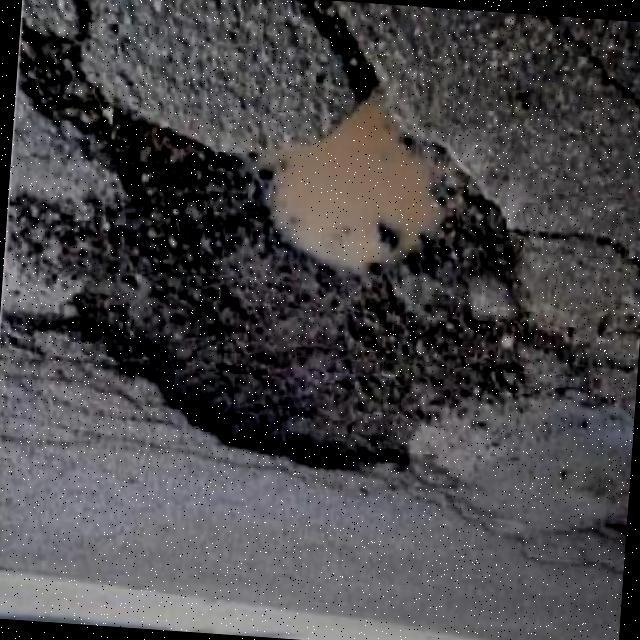Pothole: (5, 0, 590, 469)
